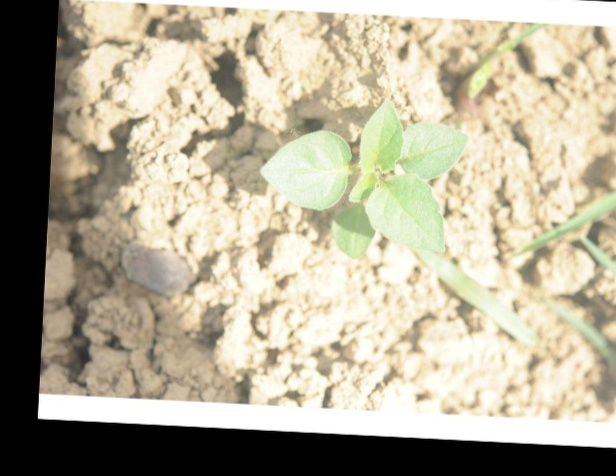nightshade: (259, 99, 462, 257)
